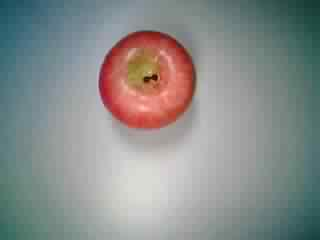apple: (97, 30, 201, 134)
